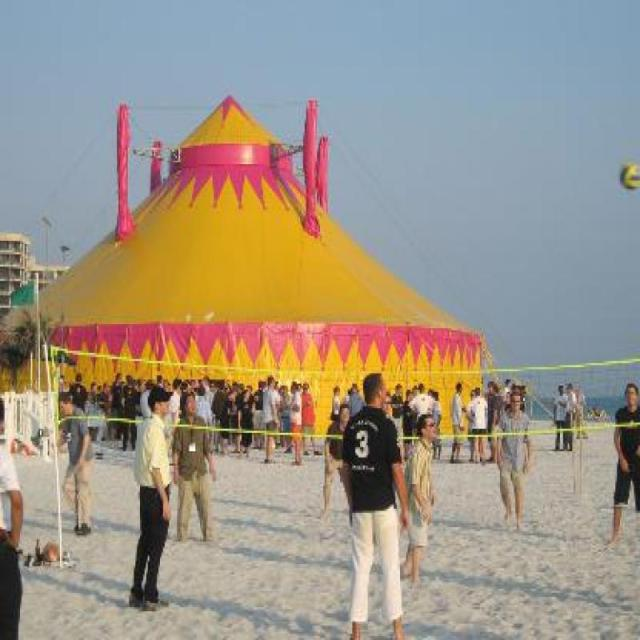volleyball: (618, 158, 638, 191)
